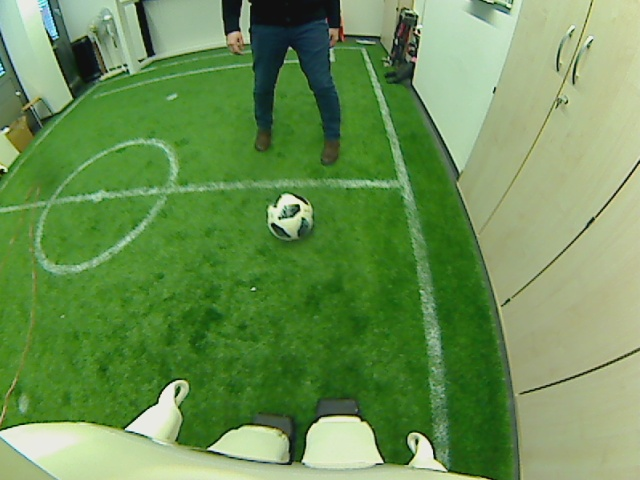ball: (265, 191, 313, 241)
